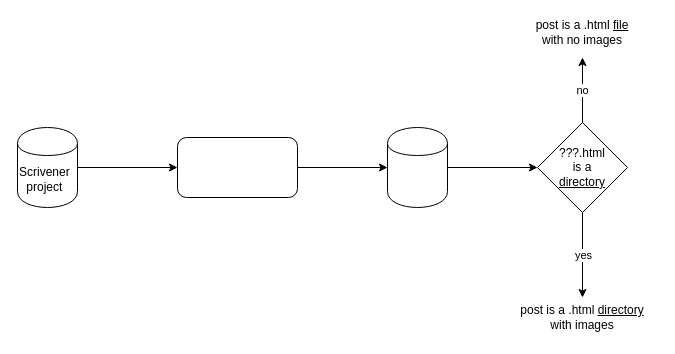
Some shapes in this 675 by 354 pixel diagram are drawn without their labels. Here are the shapes that lost their labels. From the top down, the centre of each, then its label:
[237,167]: Scrivener Compile to Web Page (.html)
[417,167]: ???.html
